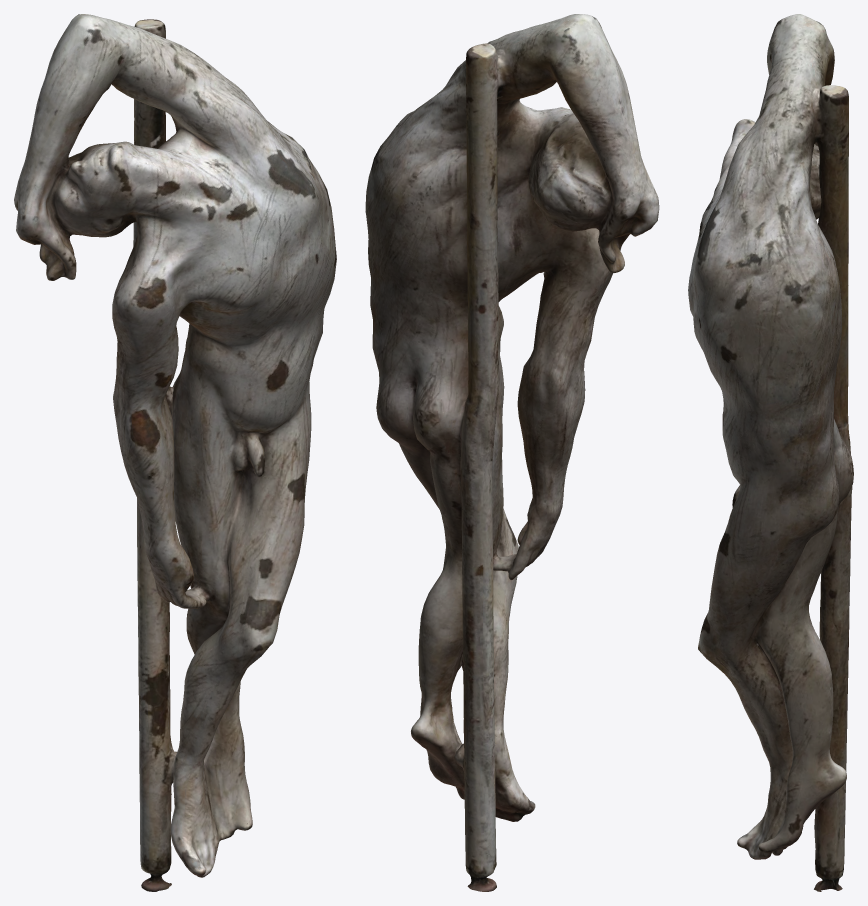
The model's file is preview.glb.
The picture shows the model from 3 angles, left to right: view 1: azimuth 30°, elevation 25°; view 2: azimuth 150°, elevation 25°; view 3: azimuth 270°, elevation 25°; orthographic projection. The views are drawn at different scales.
Visible parts, largest first — view 1: ZBrush_defualt_group__0; view 2: ZBrush_defualt_group__0; view 3: ZBrush_defualt_group__0.
Boxes of the visible parts, box(x1,y1,x2,y2) form: ZBrush_defualt_group__0: box(14, 14, 336, 891); ZBrush_defualt_group__0: box(365, 14, 659, 891); ZBrush_defualt_group__0: box(688, 14, 853, 891).
Size of the model in its own units: 1.63 by 4.7 by 0.8459.
Materials: 1 (1 with a texture image).
